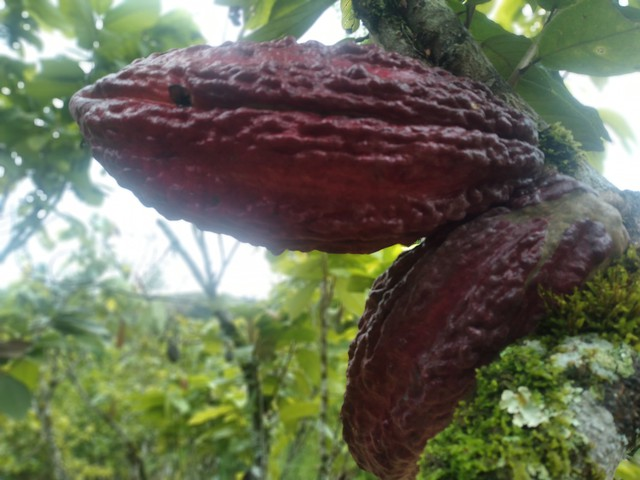Health: (338, 172, 632, 471)
carmenta foraseminis: (66, 32, 548, 260)
